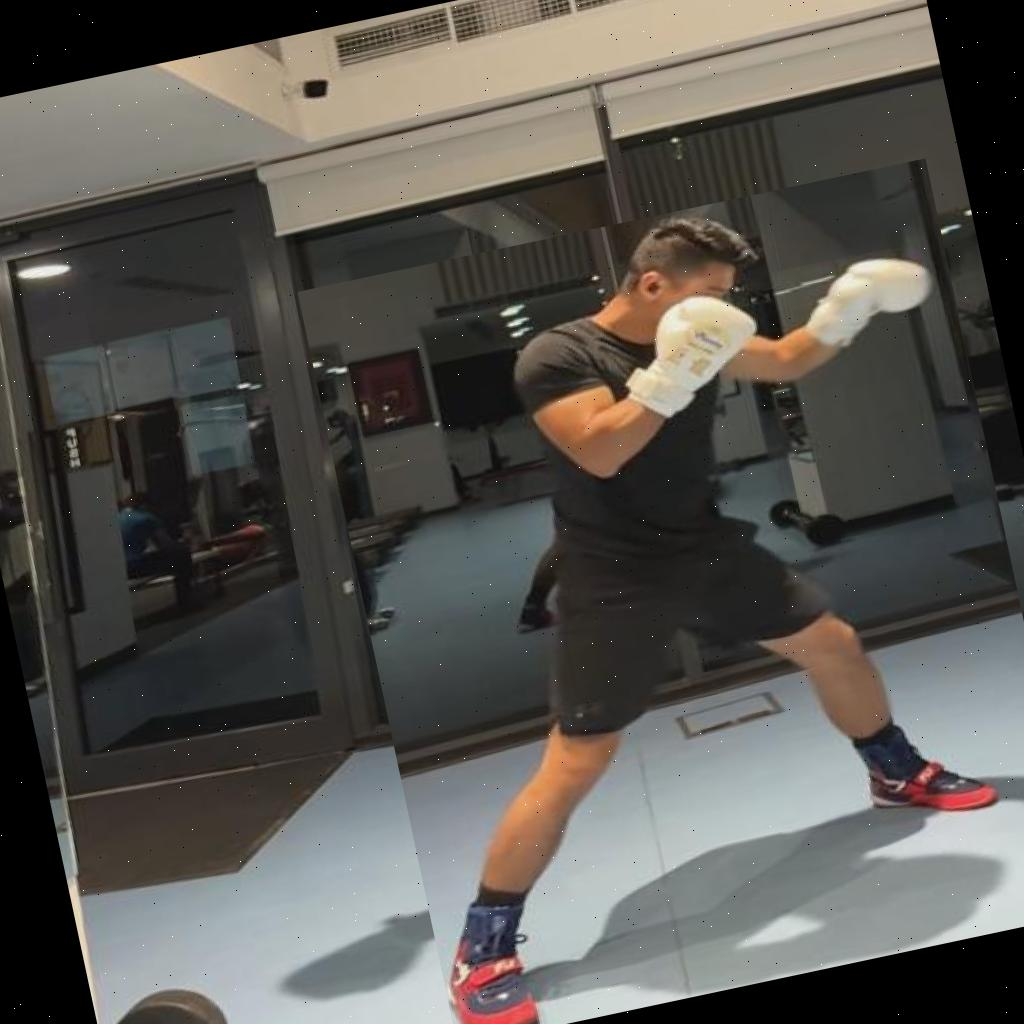jab: (298, 158, 1024, 1024)
